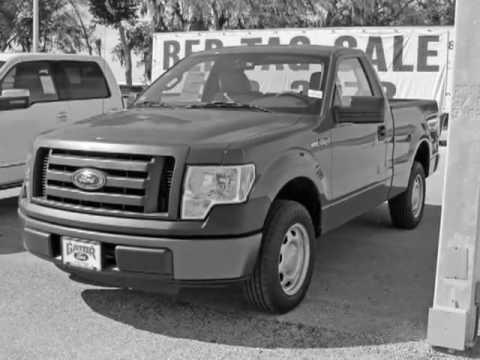car: (18, 44, 443, 314)
